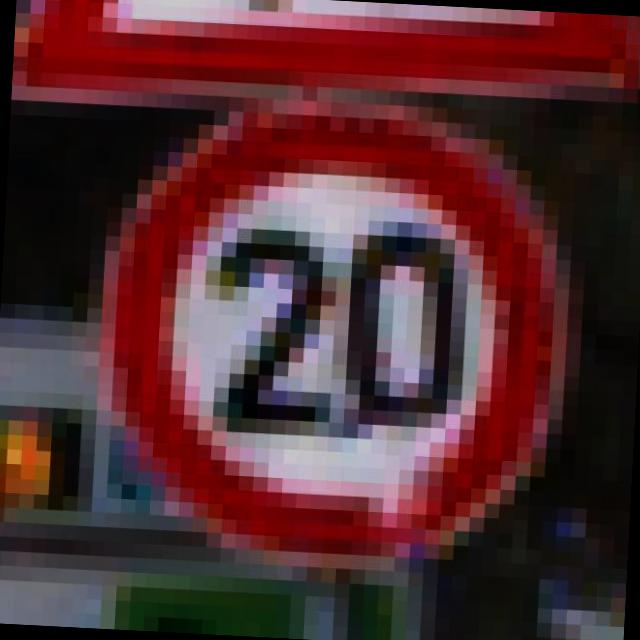Ograniczenie predkosci do 20: (84, 82, 582, 578)
